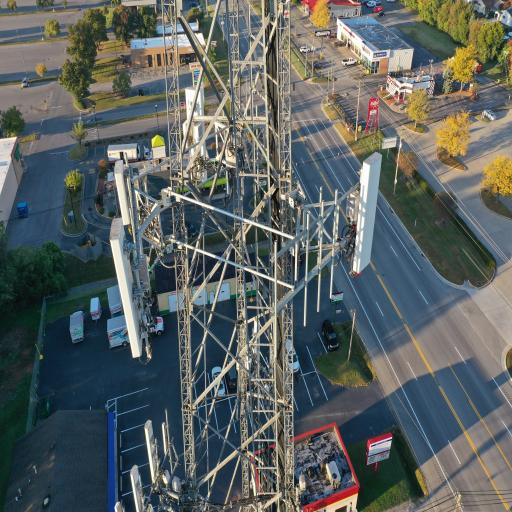supporting_tower: (96, 0, 388, 512)
